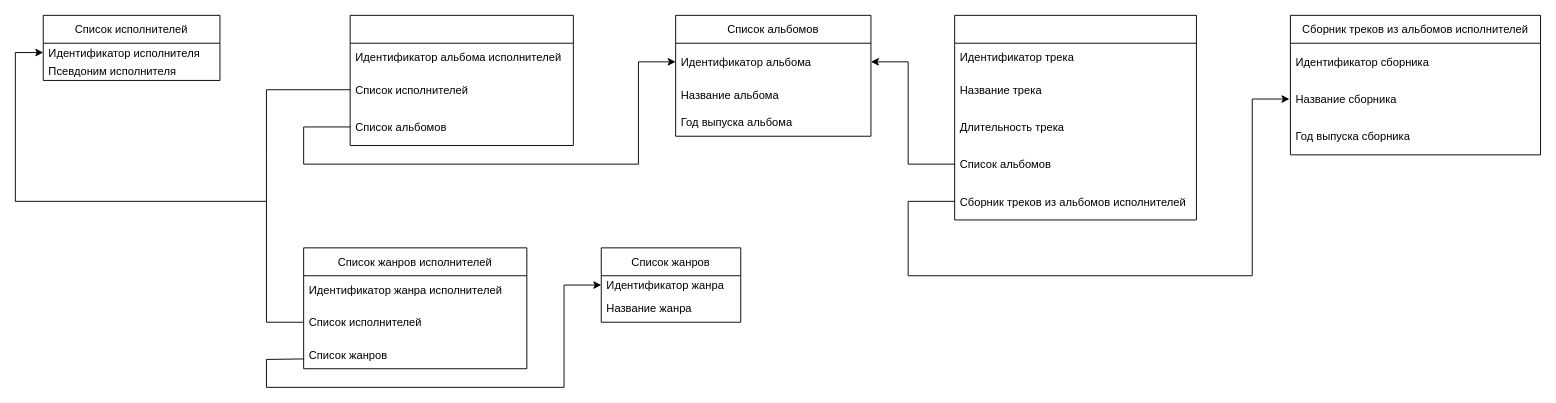
Some shapes in this 1556 by 403 pixel diagram are drawn without their labels. Each missing label, with the box of its shape:
Список альбомов исполнителей: (349, 14, 573, 146)
Список треков в альбомах исполнителей: (954, 14, 1196, 220)
